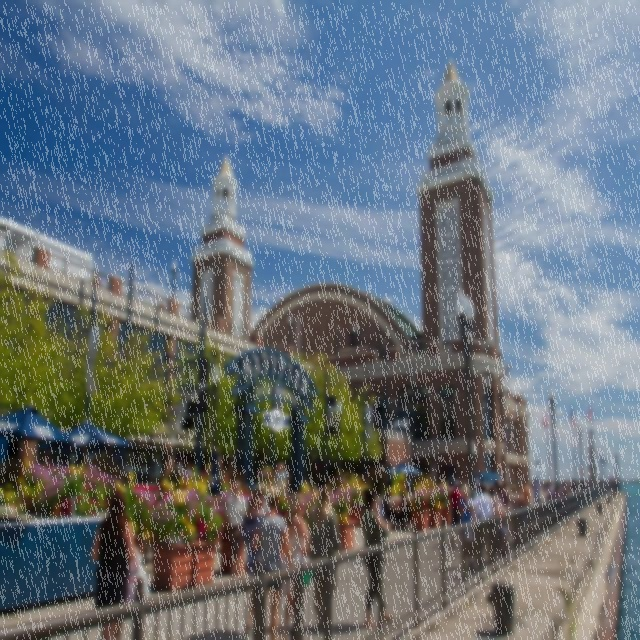pessoa: (90, 486, 138, 639), (252, 486, 294, 638), (306, 484, 342, 628), (279, 490, 313, 639), (449, 472, 616, 502), (360, 484, 394, 630), (240, 483, 268, 636), (464, 502, 532, 551), (219, 478, 249, 582), (468, 481, 494, 574), (378, 485, 420, 532), (458, 482, 476, 574), (493, 484, 508, 560), (488, 484, 504, 546), (252, 479, 272, 527), (520, 477, 532, 544), (448, 479, 462, 527), (278, 460, 290, 492), (192, 460, 214, 477), (515, 482, 526, 512), (532, 476, 543, 506), (175, 456, 184, 478), (183, 461, 193, 480), (274, 461, 280, 492)
